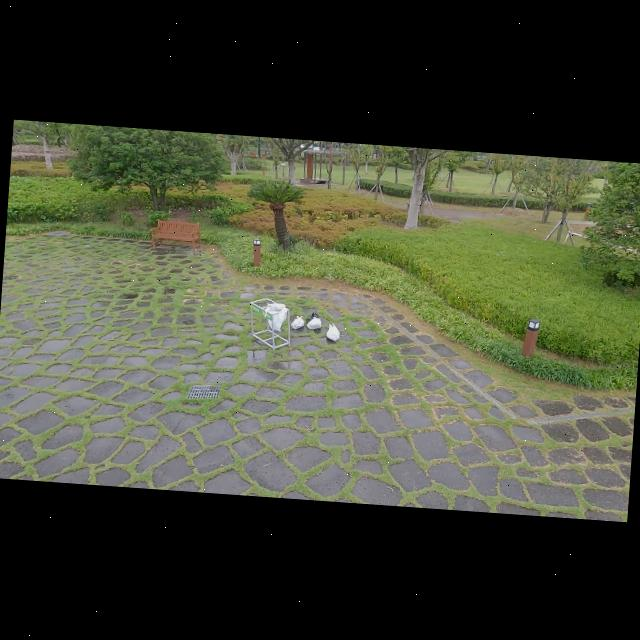trash: (325, 321, 341, 343), (304, 314, 324, 331), (292, 313, 306, 332), (308, 308, 320, 330)
